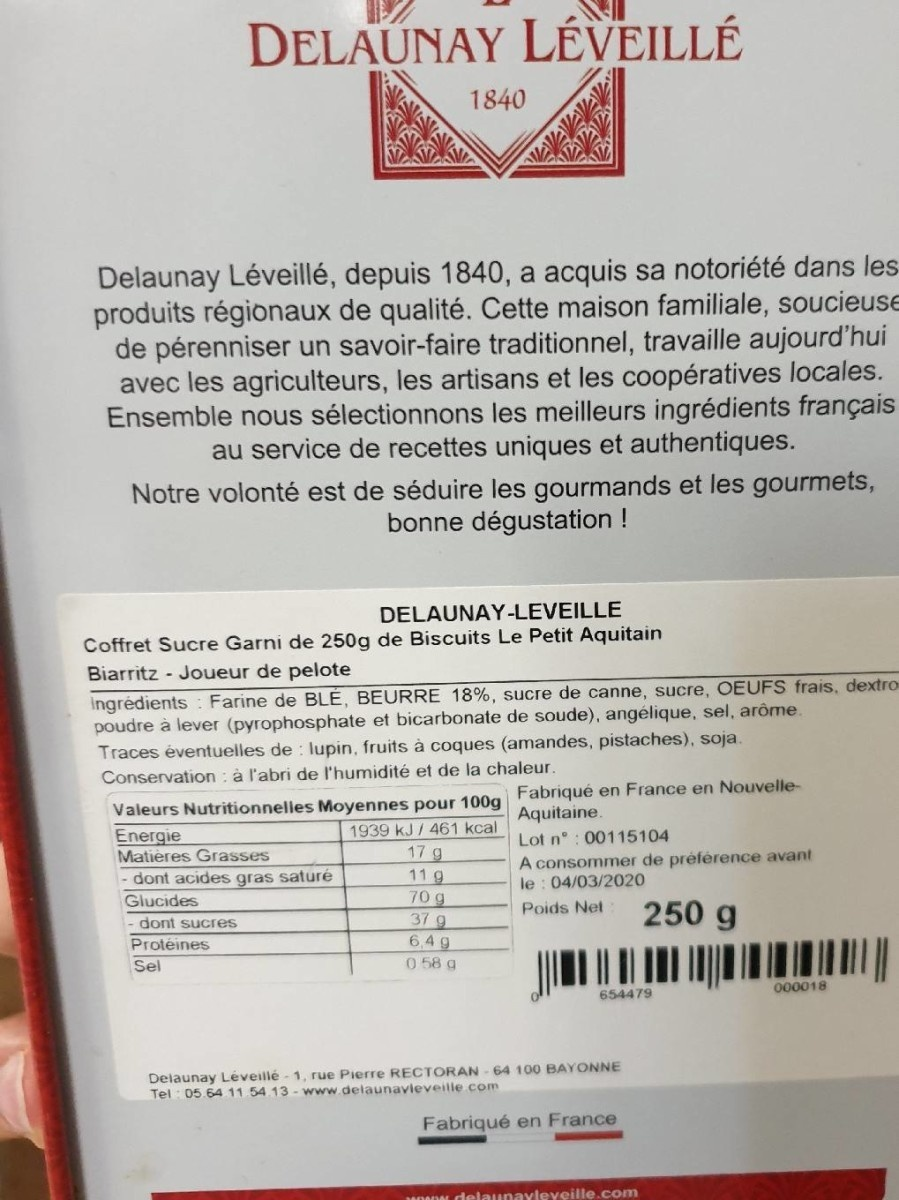column: (112, 828, 334, 974), (347, 821, 501, 972)
table: (97, 785, 516, 982)
